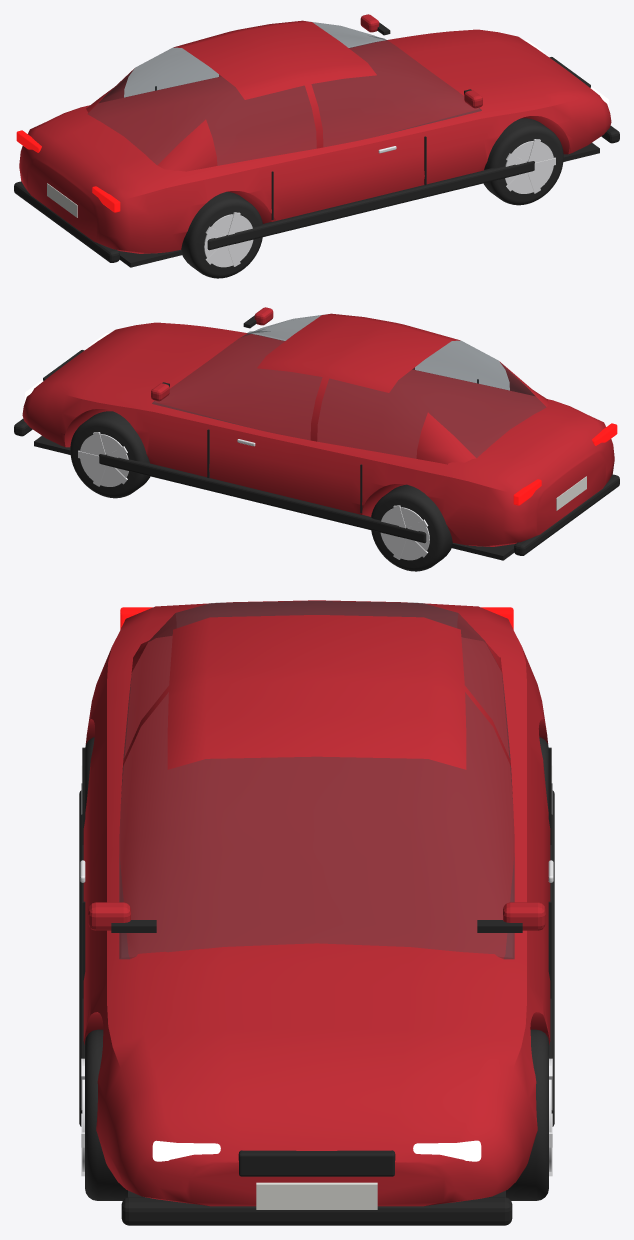
The model's file is car.glb.
The picture shows the model from 3 angles, top to bottom: view 1: azimuth 30°, elevation 25°; view 2: azimuth 150°, elevation 25°; view 3: azimuth 270°, elevation 25°; orthographic projection. The views are drawn at different scales.
Parts seen in each view (by area): view 1: Body, Greenhouse, Wheel_FL, Wheel_RL, Sill_L, BumperR, Underbody, PlateR, Tail_L; view 2: Body, Greenhouse, Wheel_FR, Wheel_RR, Sill_R, BumperR, Underbody, PlateR, Tail_R; view 3: Body, Greenhouse, BumperF, Grille, Wheel_FL, Wheel_FR, PlateF, Sill_L, Sill_R, Mirror_L, Mirror_R, Head_R (+1 smaller).
Boxes of the visible parts, x1,y1,x2,y2 form: Body: (19,29,611,253); Greenhouse: (86,20,481,171); Wheel_FL: (483,118,563,205); Wheel_RL: (181,191,262,278); Sill_L: (207,161,534,250); BumperR: (14,181,119,262); Underbody: (119,143,599,267); PlateR: (47,183,77,217); Tail_L: (92,186,120,212); Body: (22,322,614,546); Greenhouse: (152,313,549,464); Wheel_FR: (70,411,150,498); Wheel_RR: (371,484,452,571); Sill_R: (99,454,426,543); BumperR: (514,474,619,555); Underbody: (34,436,514,560); PlateR: (556,476,586,510); Tail_R: (513,479,541,505); Body: (83,600,550,1206); Greenhouse: (119,601,514,959); BumperF: (121,1197,512,1225); Grille: (238,1150,395,1176); Wheel_FL: (81,1029,127,1200); Wheel_FR: (506,1029,552,1200); PlateF: (256,1182,377,1209); Sill_L: (79,790,84,1126); Sill_R: (549,790,554,1126); Mirror_L: (88,902,130,930); Mirror_R: (503,902,545,930); Head_R: (413,1140,481,1161).
Bounding box in the file's own units: 4.69 × 1.42 × 1.89.
